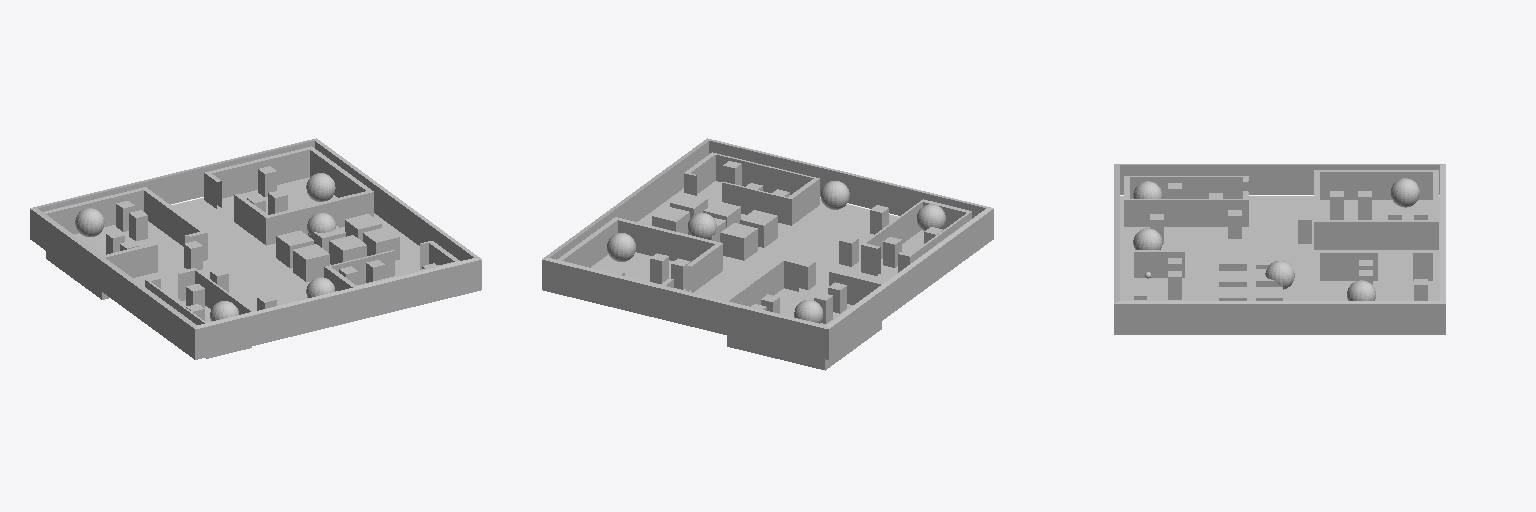
The model's file is SM_LevelTest.obj.
3 renders of one model, left to right at view 1: azimuth 30°, elevation 25°; view 2: azimuth 150°, elevation 25°; view 3: azimuth 270°, elevation 25°, orthographic.
Bounding box in the file's own units: 155 × 26.78 × 155.